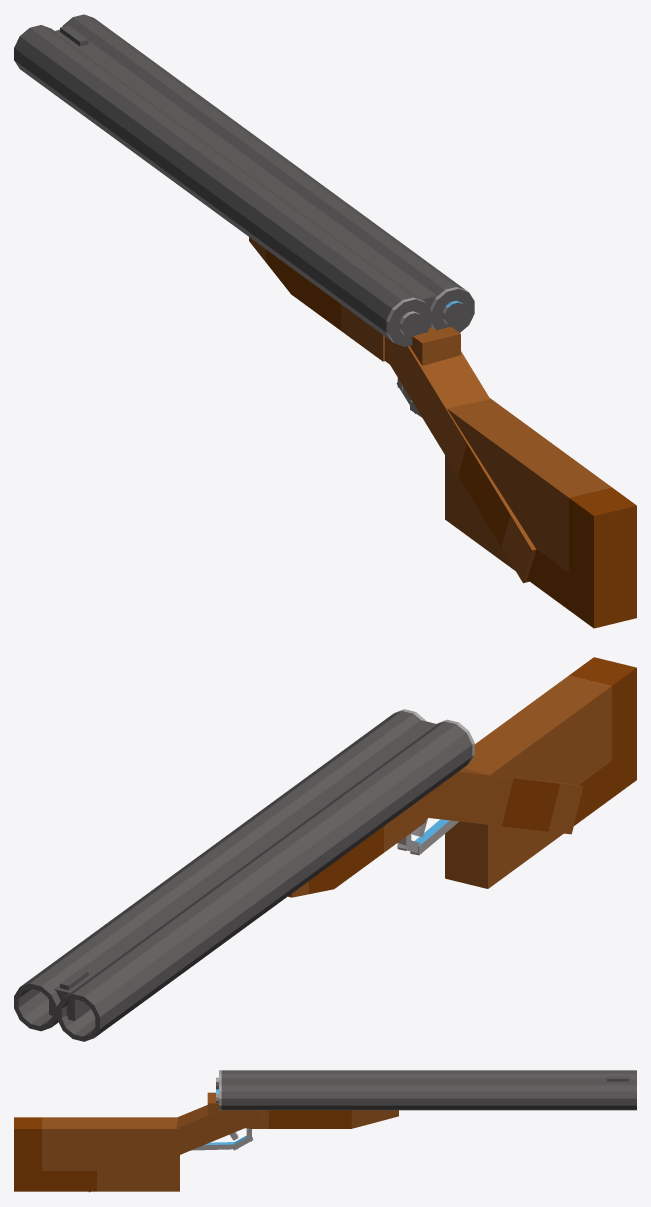
The model's file is DoubleBArrel.gltf.
3 renders of one model, top to bottom at view 1: azimuth 30°, elevation 25°; view 2: azimuth 150°, elevation 25°; view 3: azimuth 270°, elevation 25°, orthographic. The views are drawn at different scales.
Visible parts, largest first — view 1: tube (×2), mesh (×2), Grip, Barrel, Foregrip, cylinder (×2); view 2: tube (×2), mesh (×2), Grip, Barrel, Foregrip; view 3: tube (×2), mesh (×3), Foregrip, Grip, Barrel.
Boxes of the visible parts, box(x1,y1,x2,y2) form: tube (×2): box(14, 14, 465, 340); mesh (×2): box(385, 326, 636, 628); Grip: box(385, 336, 536, 583); Barrel: box(54, 29, 437, 308); Foregrip: box(249, 237, 384, 361); cylinder (×2): box(386, 287, 474, 346); tube (×2): box(14, 711, 472, 1041); mesh (×2): box(410, 657, 636, 888); Grip: box(426, 768, 583, 834); Barrel: box(49, 720, 437, 1020); Foregrip: box(288, 795, 425, 897); tube (×2): box(221, 1070, 636, 1110); mesh (×3): box(14, 1092, 249, 1191); Foregrip: box(249, 1110, 398, 1128); Grip: box(89, 1105, 264, 1192); Barrel: box(221, 1078, 631, 1082).
Bounding box in the file's own units: 0.125 × 0.2741 × 1.41.
Materials: 1 (1 with a texture image).
